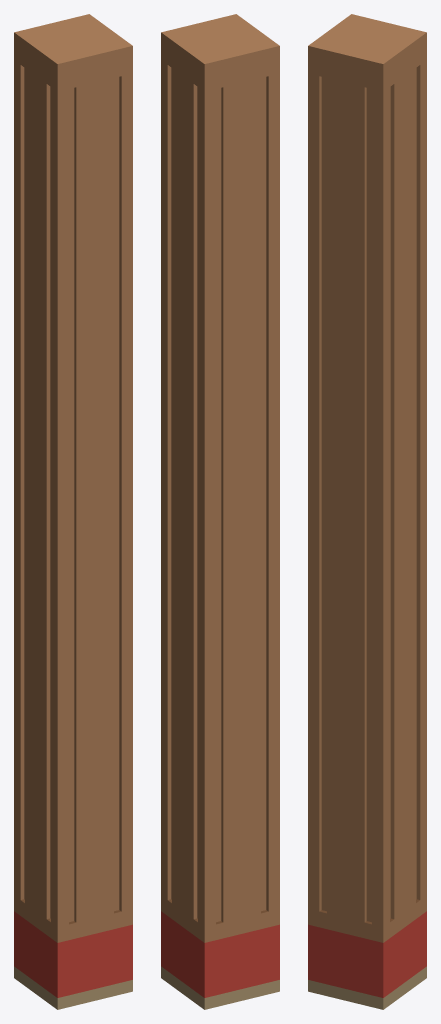
The model's file is FMS_Workshop_MOD_11.fbx.
The picture shows the model from 3 angles, left to right: view 1: azimuth 30°, elevation 25°; view 2: azimuth 210°, elevation 25°; view 3: azimuth 330°, elevation 25°; orthographic projection.
Parts seen in each view (by area): view 1: FMS_Workshop_MOD_11_Body; view 2: FMS_Workshop_MOD_11_Body; view 3: FMS_Workshop_MOD_11_Body.
Part boxes in pixels (left/top/right/bottom): FMS_Workshop_MOD_11_Body: left=14, top=14, right=132, bottom=1009; FMS_Workshop_MOD_11_Body: left=161, top=14, right=279, bottom=1009; FMS_Workshop_MOD_11_Body: left=308, top=14, right=426, bottom=1009.
Size of the model in its own units: 0.2 by 2.4 by 0.2.
Materials: 1 (1 with a texture image).
